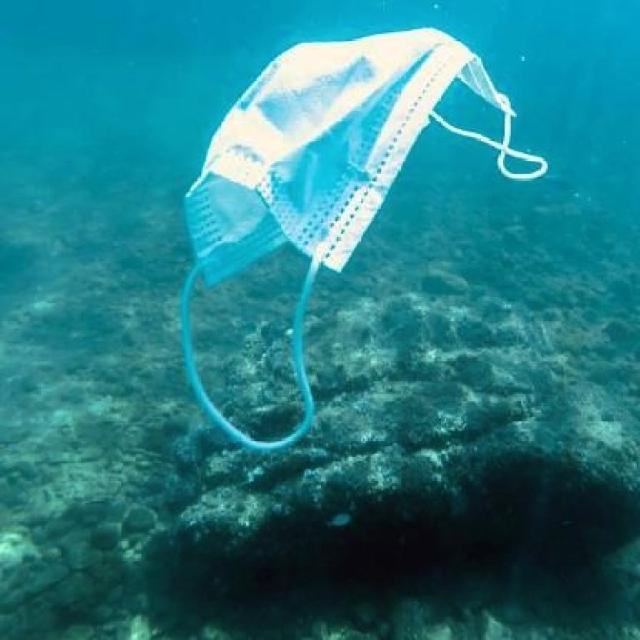Mask: (166, 26, 540, 460)
